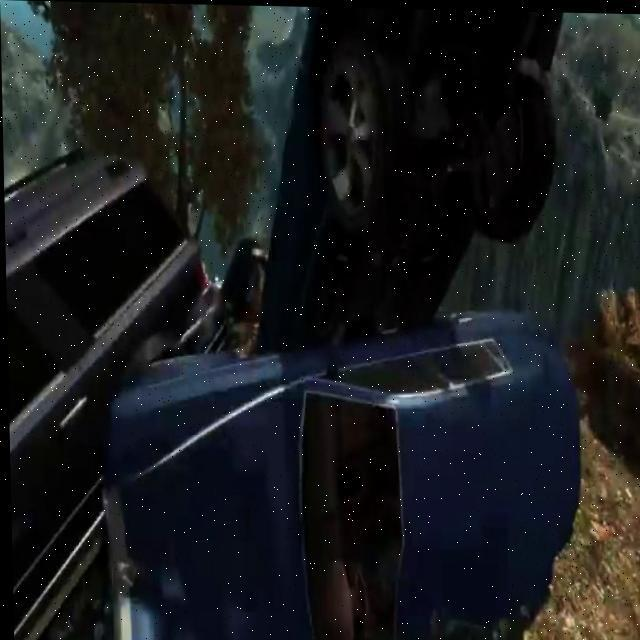multiple_accident: (38, 68, 557, 640)
